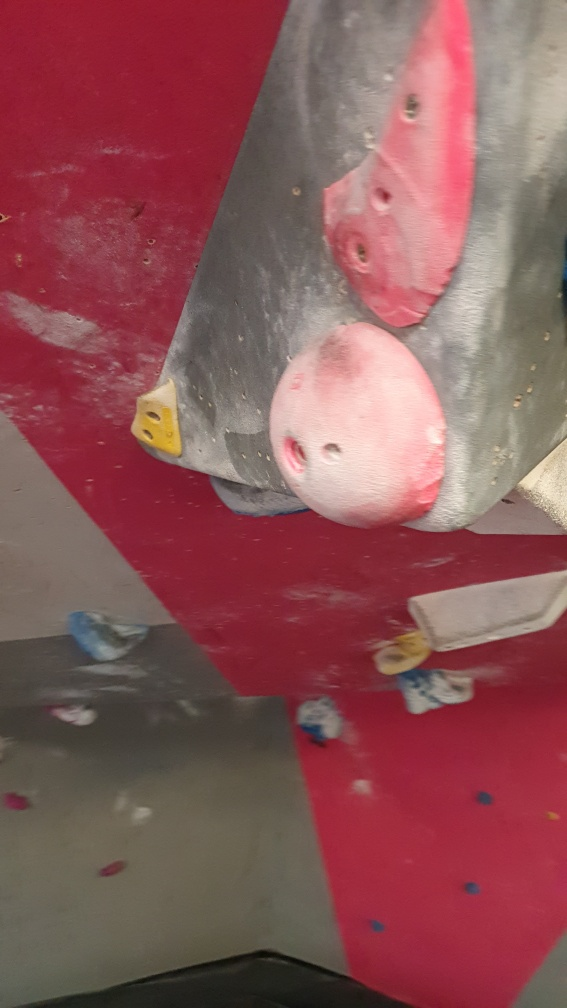Crimp: (130, 378, 186, 462)
Jug: (67, 604, 152, 664)
Pinch: (408, 567, 567, 655)
Sloper: (272, 318, 453, 536)
